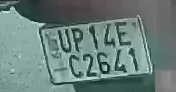1: (127, 48, 141, 73), (88, 25, 99, 51)
2: (82, 50, 101, 77)
4: (112, 48, 129, 73), (101, 23, 116, 49)
6: (94, 50, 111, 77)
C: (67, 54, 85, 79)
E: (112, 20, 131, 48)
P: (71, 27, 84, 53)
U: (56, 30, 73, 55)
